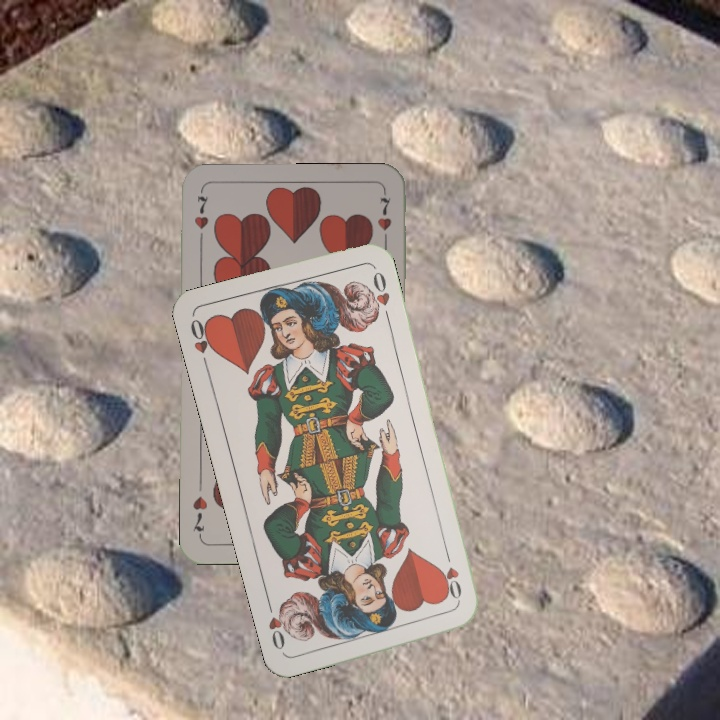H7: (190, 189, 211, 248)
HO: (186, 314, 217, 372), (441, 547, 465, 606)
